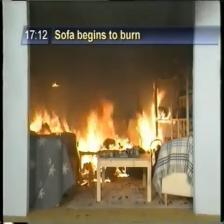fire: (30, 97, 183, 153)
